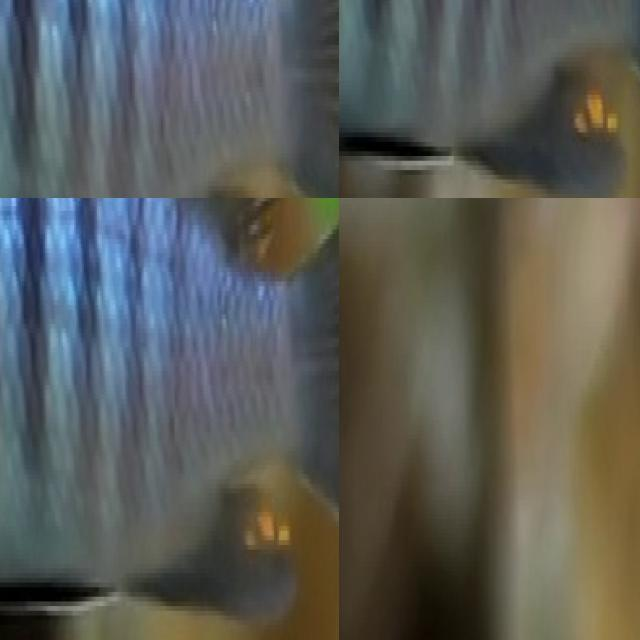fish: (0, 0, 339, 198), (339, 0, 640, 198)
